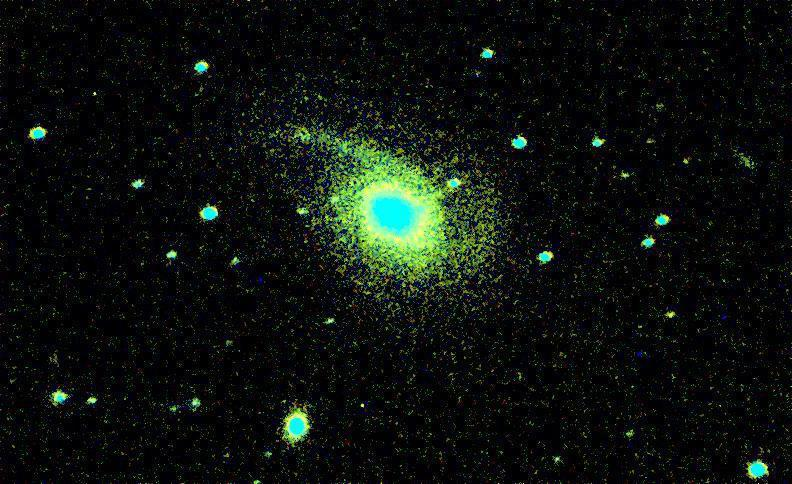star: (670, 149, 700, 179)
